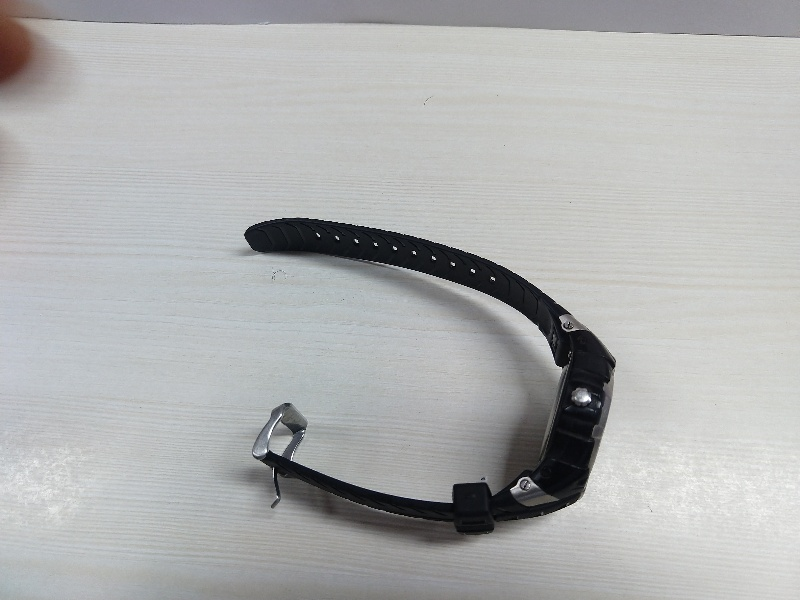watch: (230, 194, 624, 549)
